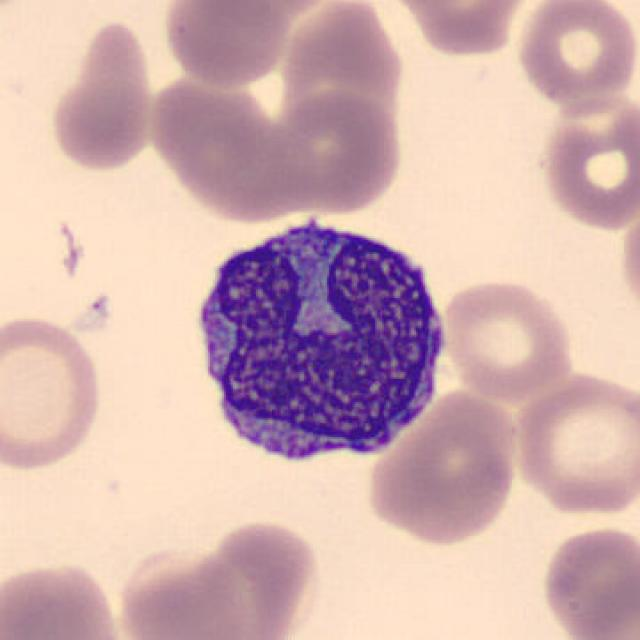Monocyte: (179, 202, 457, 480)
RBC: (362, 386, 522, 548), (152, 75, 299, 226), (508, 367, 638, 518), (263, 86, 407, 217), (46, 14, 160, 176), (437, 275, 578, 402), (179, 516, 323, 640), (0, 310, 105, 476), (276, 13, 414, 132), (535, 88, 638, 235), (512, 0, 638, 111), (113, 546, 259, 640), (160, 0, 293, 90), (537, 522, 638, 640), (0, 555, 128, 640), (381, 0, 538, 58), (615, 199, 640, 326), (0, 0, 44, 21)
